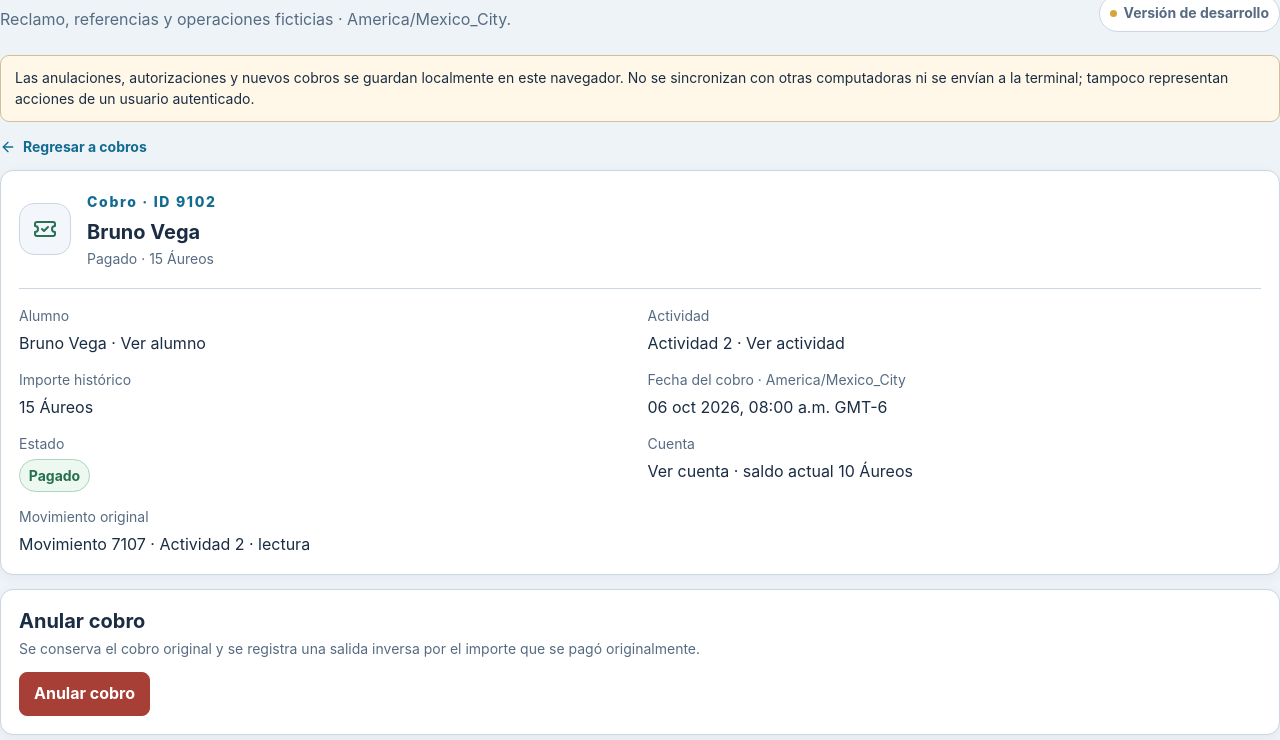
Test: PM.7 vistas de Cobros › confirma una anulación con saldo negativo, motivo vacío y sin permitir repetirla
Expected: the heading "Bruno Vega" is shown, [87,219,217,245]
Click the button "Anular cobro" at x=84, y=694, box [19,672,150,716]
(page scrolled)
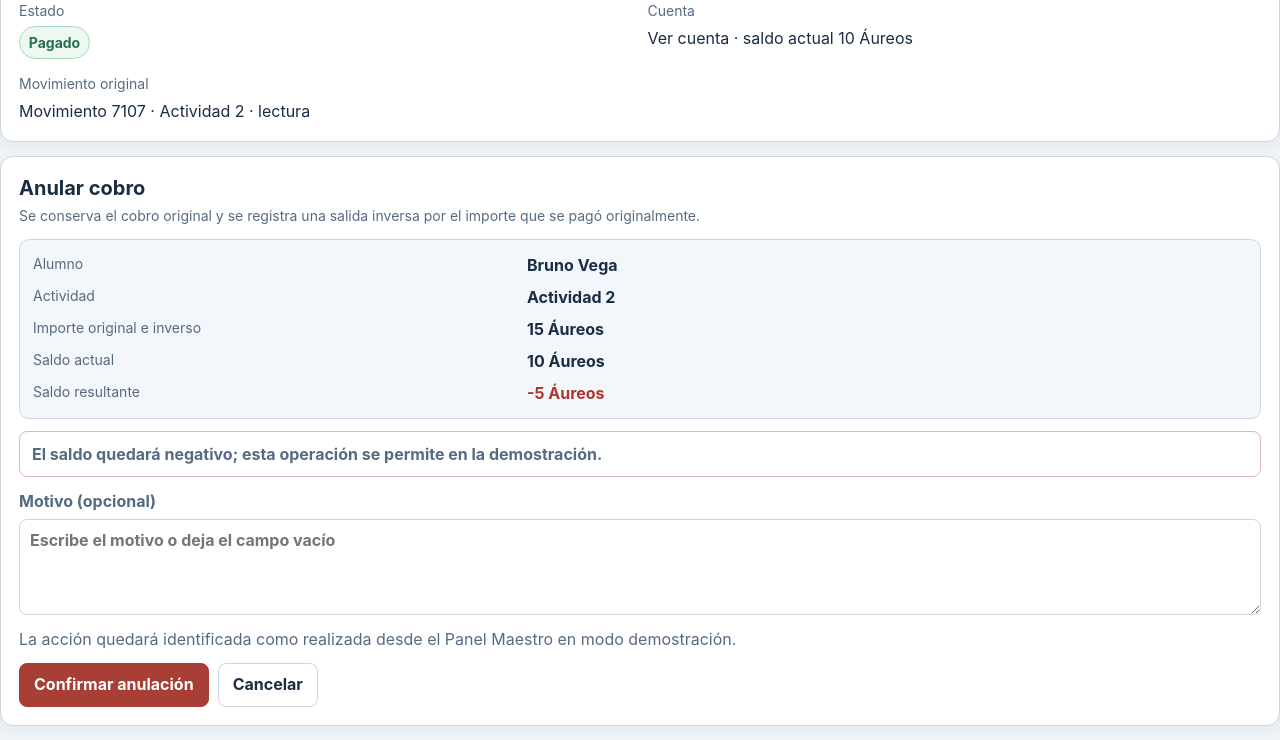
Expected: the text "El saldo quedará negativo; esta operación se permite en la demostración." is shown, [19,431,1261,477]
Expected: the text "-5 Áureos" is shown, [527,383,605,403]
Click the button "Confirmar anulación" at x=114, y=685, box [19,663,209,707]
(page scrolled)
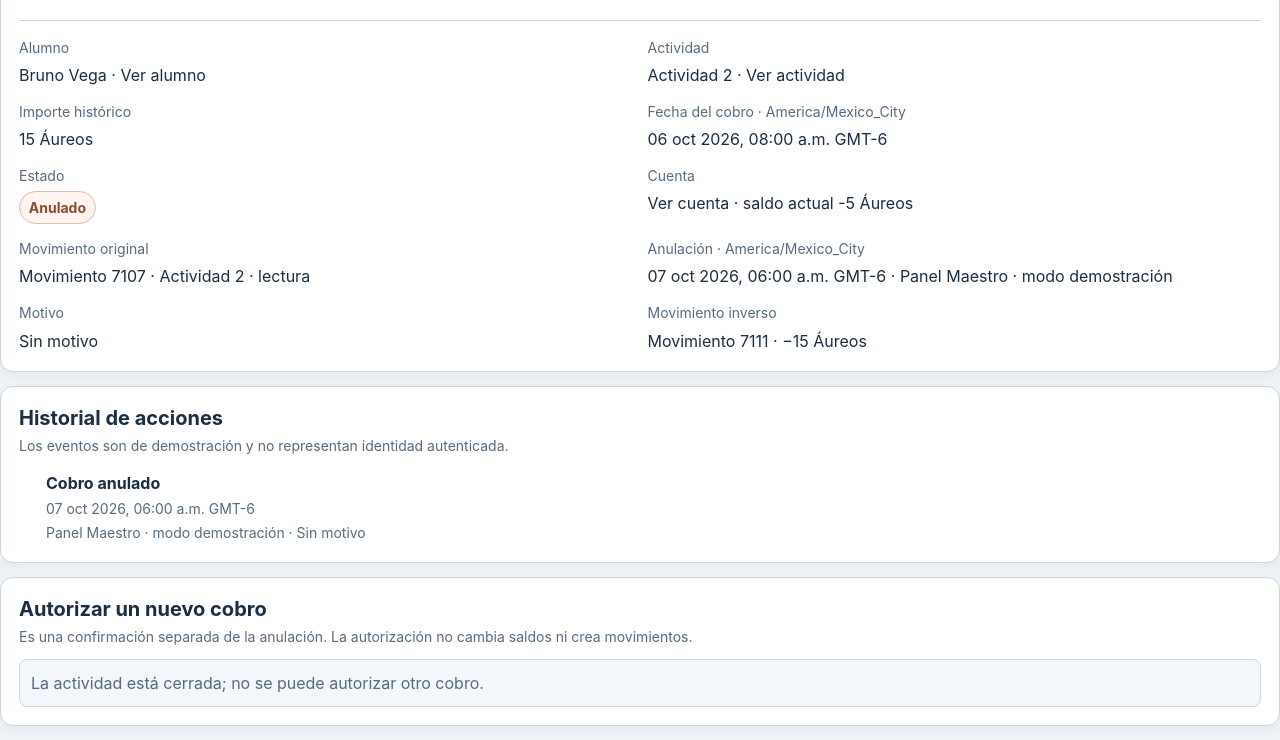
Expected: the text "Sin motivo" is shown, [19,331,98,351]
Expected: the text "Panel Maestro · modo demostración" is shown, [900,266,1173,286]
Expected: the heading "Anular cobro" is gone
